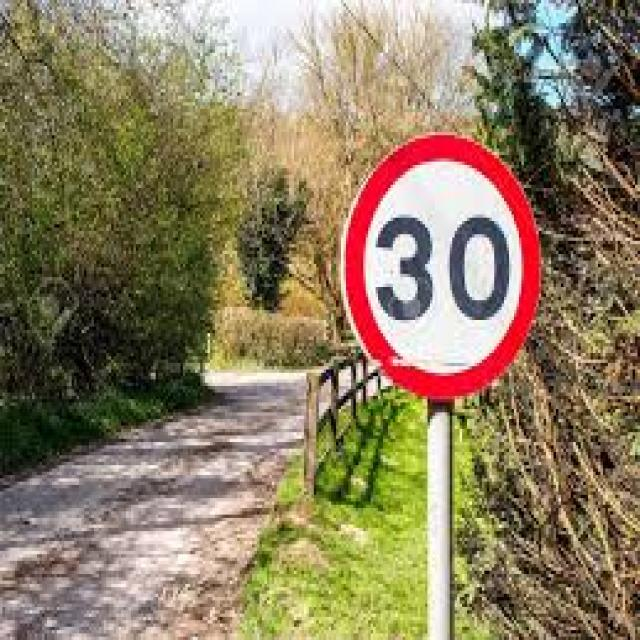Speed limit 30: (337, 127, 545, 404)
